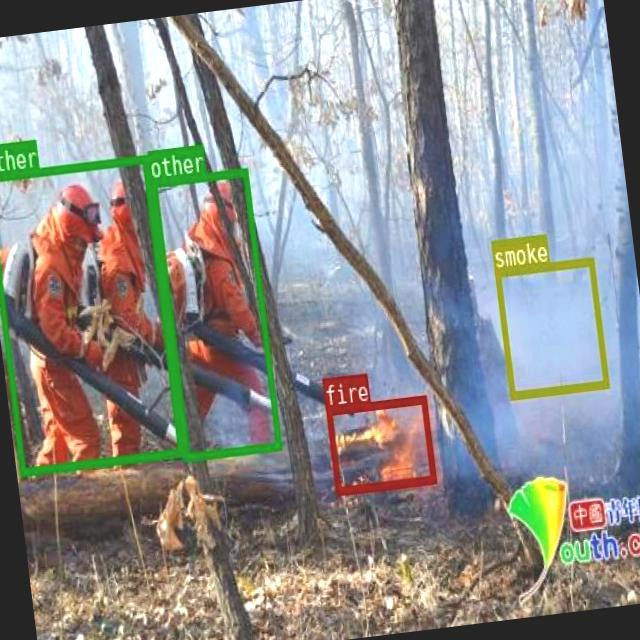fire: (324, 393, 435, 493)
smoke: (493, 255, 608, 398)
